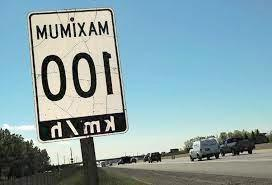speed limit sign: (29, 4, 129, 147)
